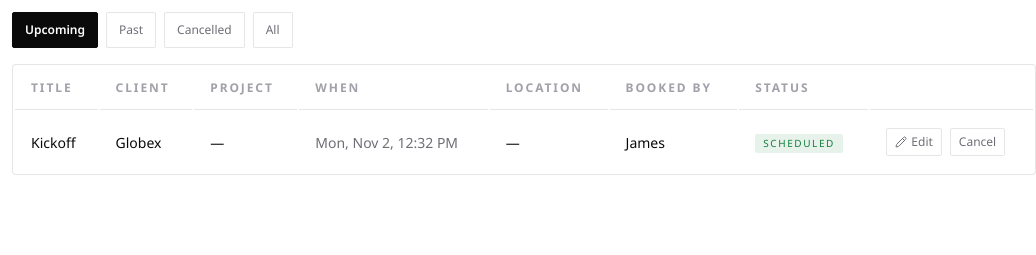
MeetingsTable › surfaces a cancel error
Click the button "Cancel" at (978, 142), box [950,128,1005,156]
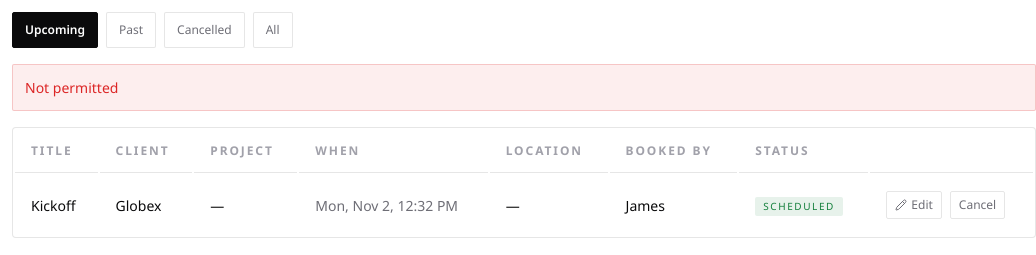
Result: the text "Not permitted" is shown at [12,64,1035,111]
